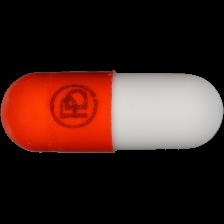54868-0325: (0, 0, 224, 224)
